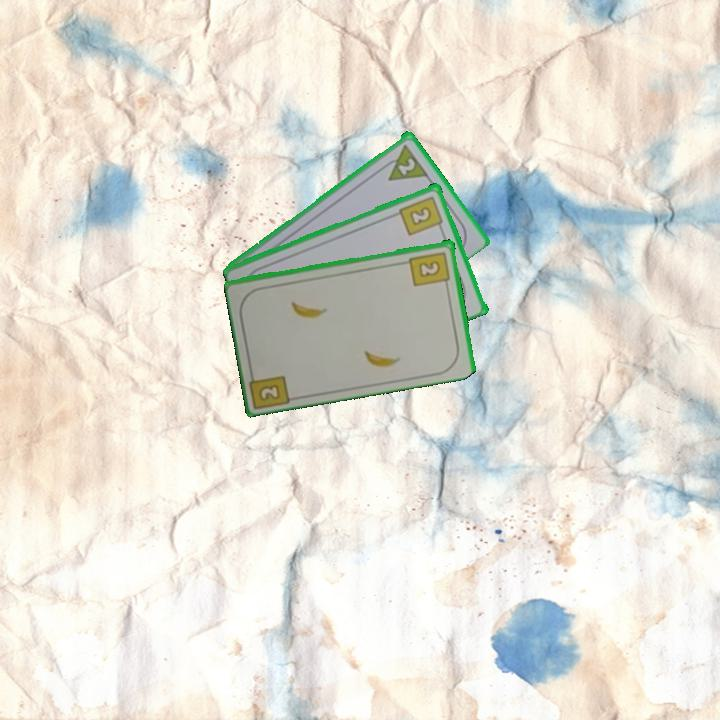2b: (396, 192, 446, 238), (246, 366, 294, 410), (406, 248, 453, 290)
2p: (394, 154, 418, 178)
